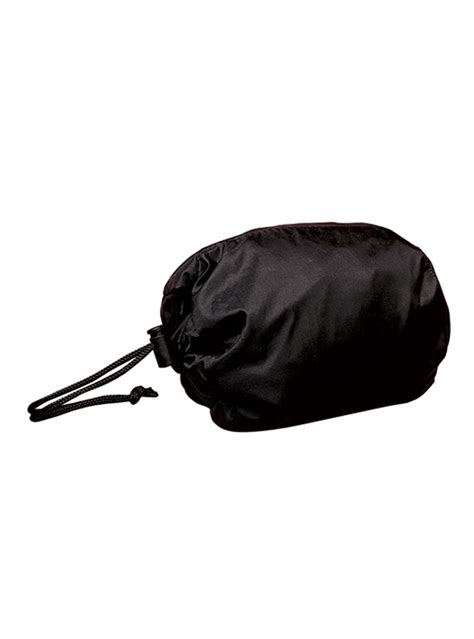nylon: (163, 222, 451, 435)
